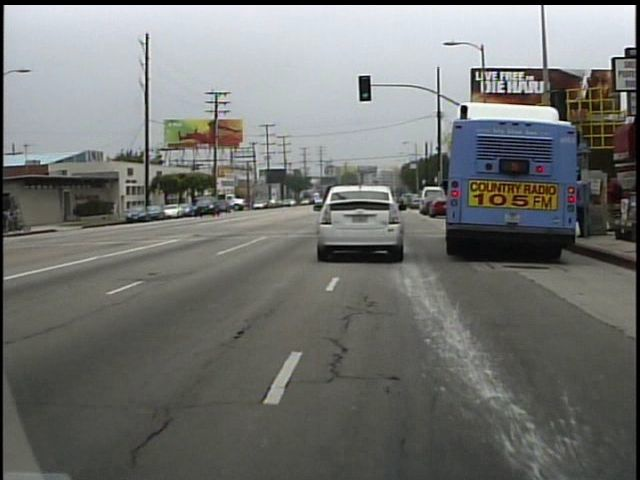person: (574, 173, 591, 242), (108, 195, 122, 220)
